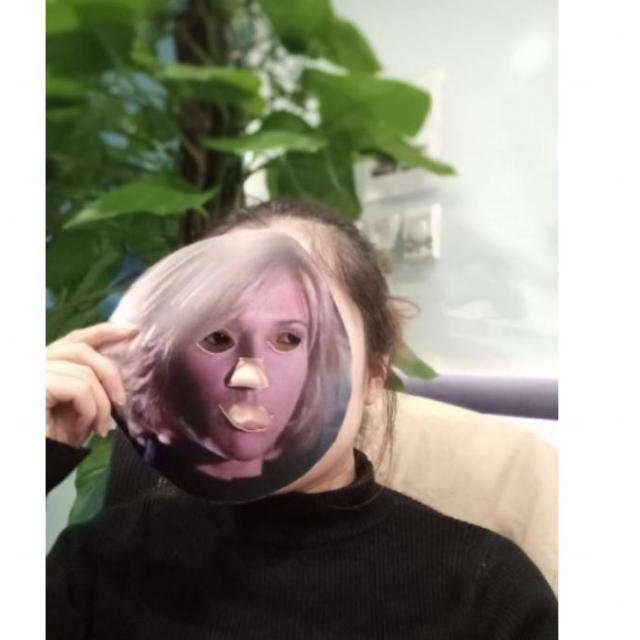mask: (100, 232, 350, 500)
